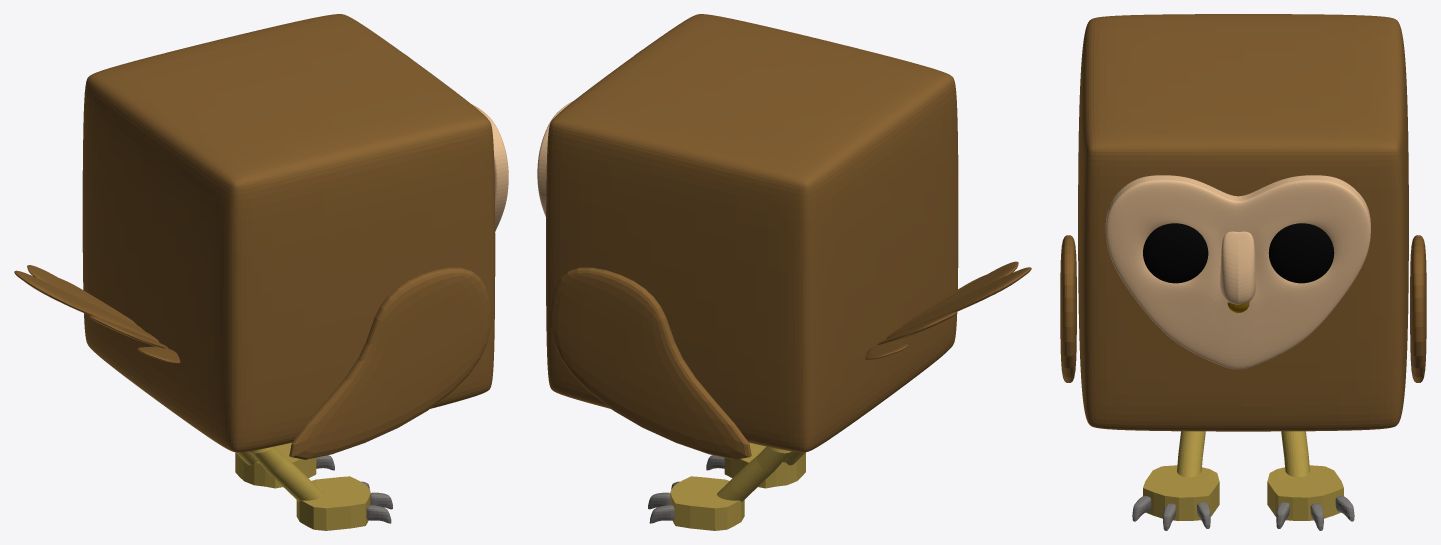
Rendered from owl_object.fbx.
3 views of the same model, side by side, from view 1: azimuth 30°, elevation 25°; view 2: azimuth 150°, elevation 25°; view 3: azimuth 270°, elevation 25° (orthographic). The views are drawn at different scales.
Visible parts, largest first — view 1: body, Wings, Feet.003, Lower leg, tail, tail.003, Head, tail.004; view 2: body, Wings, Feet.003, Lower leg, tail, tail.003, Head, tail.004; view 3: body, Head, eyes, Feet.003, Wings, Lower leg, claw.001, claw, claw.002.
Part boxes in pixels (<box>): body: <box>82,14,495,452</box>; Wings: <box>289,267,491,459</box>; Feet.003: <box>235,442,370,530</box>; Lower leg: <box>236,446,323,501</box>; tail: <box>14,270,159,342</box>; tail.003: <box>27,265,167,348</box>; Head: <box>405,54,508,231</box>; tail.004: <box>59,278,180,363</box>; body: <box>546,14,958,452</box>; Wings: <box>550,267,751,459</box>; Feet.003: <box>670,442,805,530</box>; Lower leg: <box>717,446,805,501</box>; tail: <box>886,267,1031,338</box>; tail.003: <box>877,261,1018,344</box>; Head: <box>537,50,641,216</box>; tail.004: <box>865,275,985,359</box>; body: <box>1078,14,1408,431</box>; Head: <box>1105,175,1370,369</box>; eyes: <box>1143,223,1334,283</box>; Feet.003: <box>1143,465,1343,520</box>; Wings: <box>1060,235,1426,382</box>; Lower leg: <box>1177,431,1309,477</box>; claw.001: <box>1132,496,1354,521</box>; claw: <box>1163,503,1323,530</box>; claw.002: <box>1197,502,1289,528</box>.
Bounding box in the file's own units: 159 × 141 × 110.
